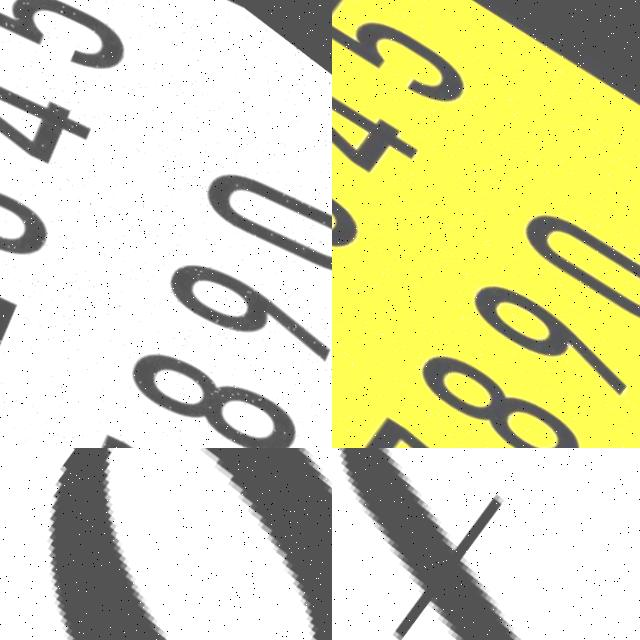0: (155, 106, 332, 336), (485, 169, 640, 367)
3: (0, 90, 81, 314), (332, 93, 381, 287)
4: (0, 0, 121, 221), (332, 13, 437, 213)
5: (332, 0, 484, 135), (0, 0, 155, 124)
7: (30, 373, 278, 448), (332, 375, 538, 448)
8: (73, 287, 323, 448), (375, 309, 597, 448)
9: (115, 198, 332, 423), (432, 240, 640, 434)
F: (335, 448, 515, 640)
Q: (0, 448, 332, 640)
